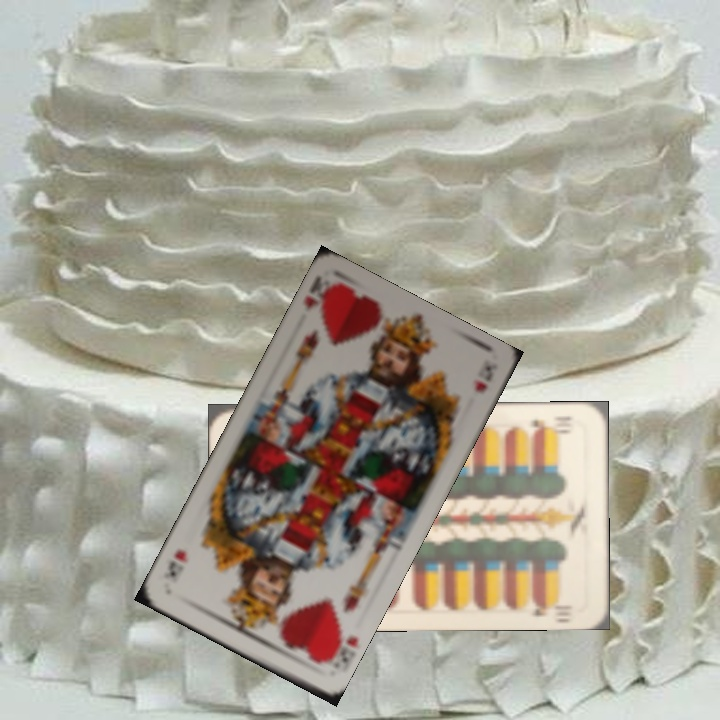E10: (526, 416, 575, 436)
HK: (320, 626, 361, 665), (300, 272, 325, 315)
